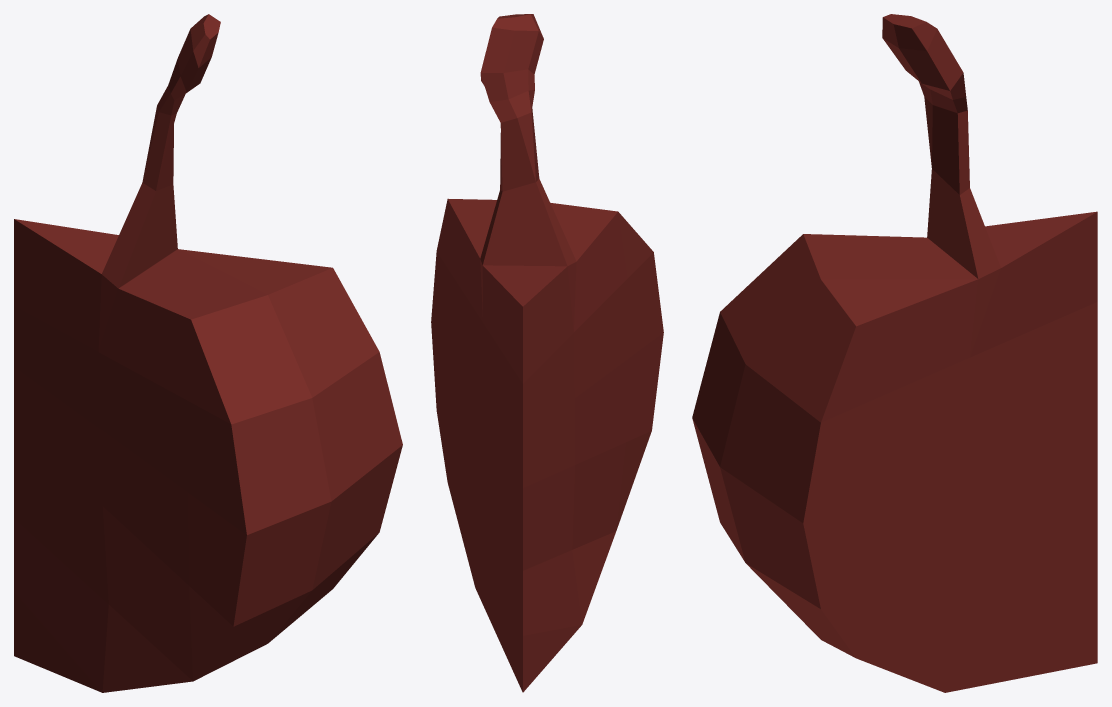
File: GajoGranate.fbx
3 renders of one model, left to right at view 1: azimuth 30°, elevation 25°; view 2: azimuth 150°, elevation 25°; view 3: azimuth 270°, elevation 25°, orthographic. The views are drawn at different scales.
Parts seen in each view (by area): view 1: GajoPG; view 2: GajoPG; view 3: GajoPG.
Boxes of the visible parts, x1,y1,x2,y2 form: GajoPG: (14,14,402,692); GajoPG: (431,14,663,692); GajoPG: (692,14,1097,692).
Bounding box in the file's own units: 56.05 × 147 × 77.31.
